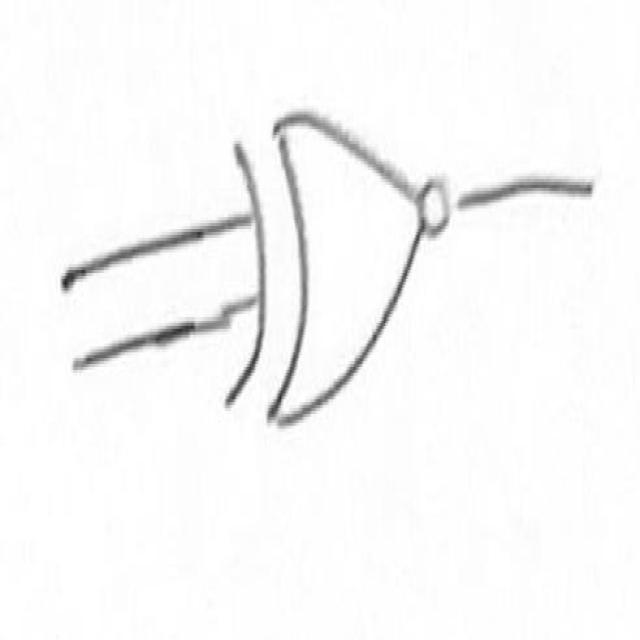XNOR: (225, 80, 459, 477)
